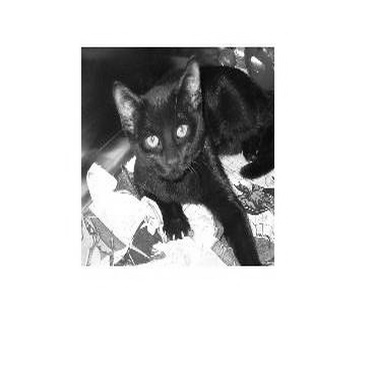cat: (113, 63, 274, 266)
